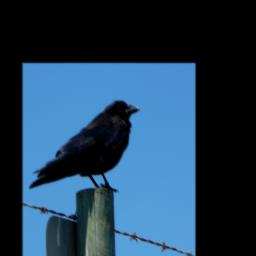Crow: (28, 99, 141, 194)
